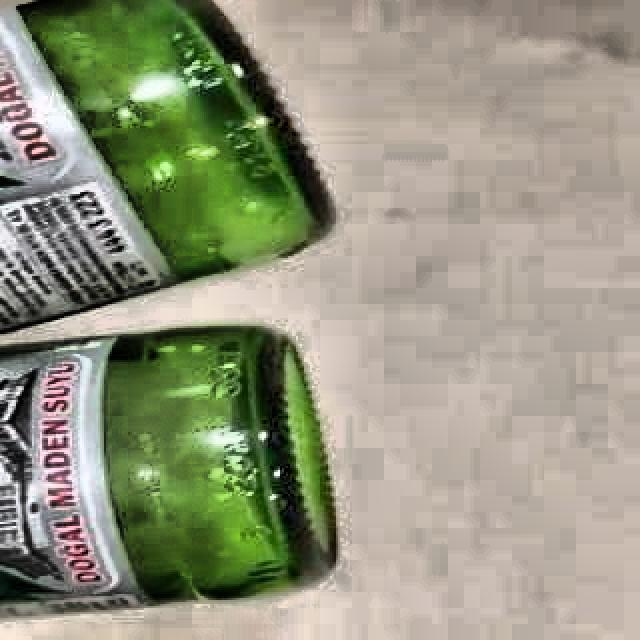glass: (0, 327, 339, 621)
